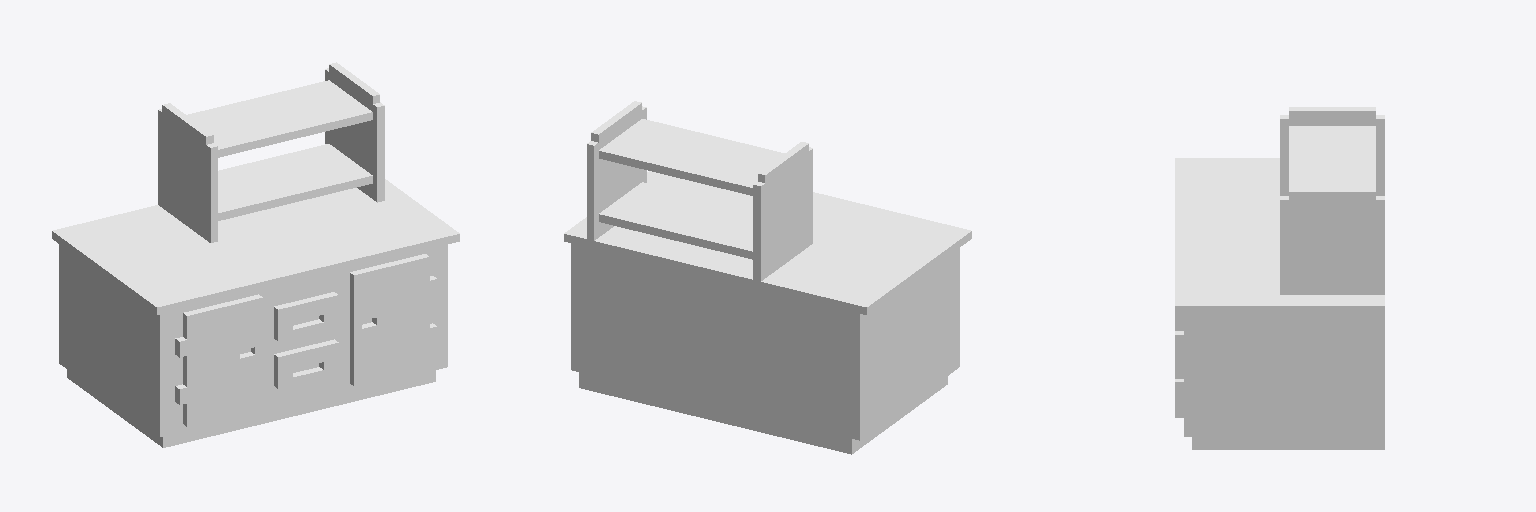
File: ShelfDrawer.obj
3 views of the same model, side by side, from view 1: azimuth 30°, elevation 25°; view 2: azimuth 150°, elevation 25°; view 3: azimuth 270°, elevation 25° (orthographic).
Parts seen in each view (by area): view 1: CupboardBigDoor; view 2: CupboardBigDoor; view 3: CupboardBigDoor.
Boxes of the visible parts, x1=… form: CupboardBigDoor: x1=52, y1=62, x2=459, y2=447; CupboardBigDoor: x1=564, y1=101, x2=971, y2=454; CupboardBigDoor: x1=1175, y1=107, x2=1384, y2=449.
Bounding box in the file's own units: 4 × 3.2 × 2.4.